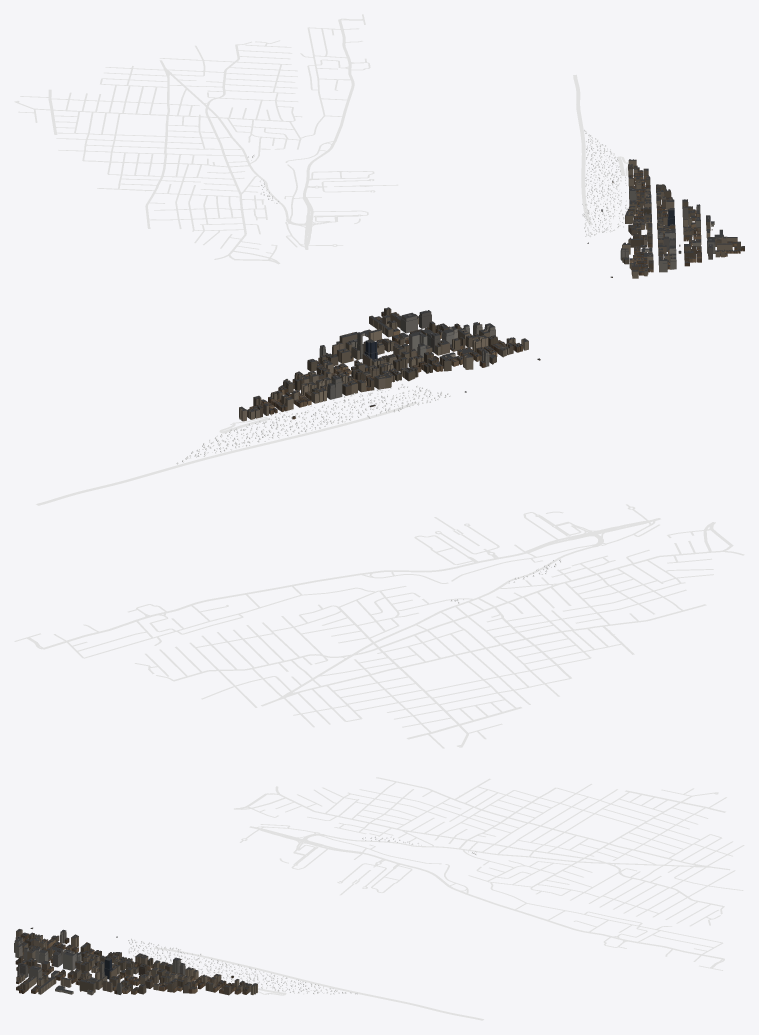
Rendered from manhattan_-01_+01.glb.
3 renders of one model, top to bottom at view 1: azimuth 30°, elevation 25°; view 2: azimuth 150°, elevation 25°; view 3: azimuth 270°, elevation 25°, orthographic. The views are drawn at different scales.
Visible parts, largest first — view 1: ROAD_-01_+01, BLD_midrise_-01_+01, BLD_lowrise_-01_+01, TREE_-01_+01; view 2: ROAD_-01_+01, BLD_midrise_-01_+01, BLD_lowrise_-01_+01, TREE_-01_+01; view 3: ROAD_-01_+01, BLD_midrise_-01_+01, BLD_lowrise_-01_+01, TREE_-01_+01.
Part boxes in pixels (left/top/right/bottom): ROAD_-01_+01: left=14, top=14, right=628, bottom=264; BLD_midrise_-01_+01: left=620, top=159, right=740, bottom=278; BLD_lowrise_-01_+01: left=587, top=167, right=744, bottom=277; TREE_-01_+01: left=247, top=130, right=628, bottom=236; ROAD_-01_+01: left=14, top=401, right=744, bottom=748; BLD_midrise_-01_+01: left=239, top=307, right=528, bottom=421; BLD_lowrise_-01_+01: left=249, top=311, right=540, bottom=419; TREE_-01_+01: left=176, top=384, right=561, bottom=603; ROAD_-01_+01: left=154, top=777, right=744, bottom=1020; BLD_midrise_-01_+01: left=14, top=929, right=257, bottom=995; BLD_lowrise_-01_+01: left=15, top=927, right=247, bottom=995; TREE_-01_+01: left=128, top=836, right=477, bottom=994.
Size of the model in its own units: 3108 by 123 by 3940.
